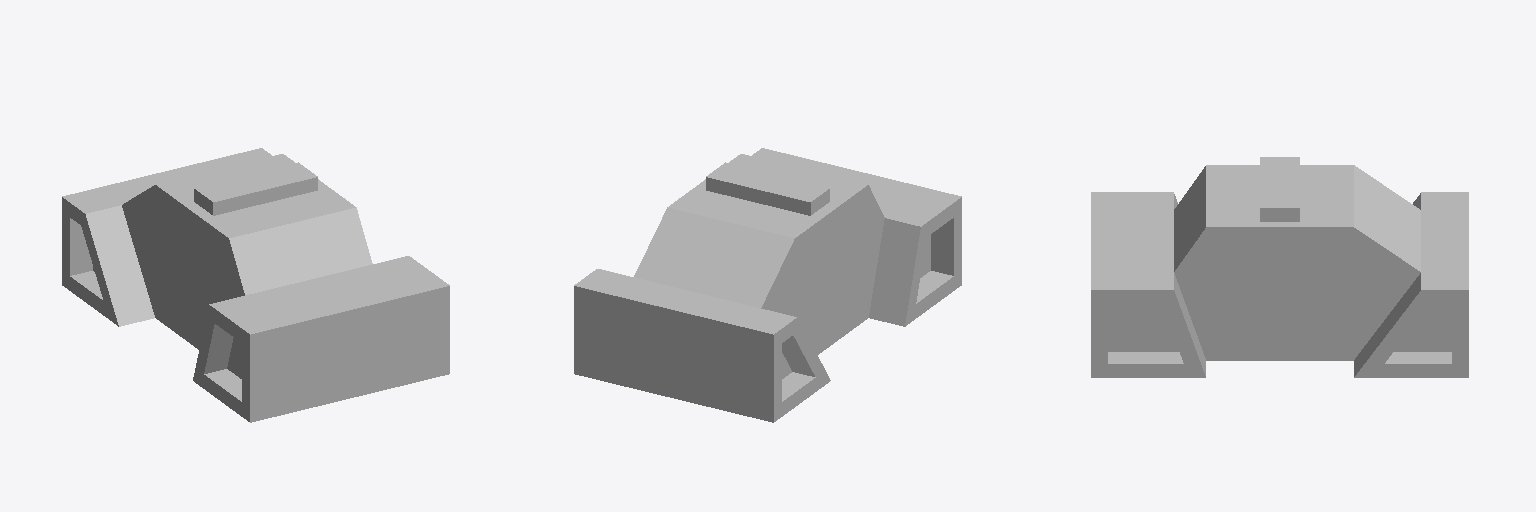
File: Police.obj
3 views of the same model, side by side, from view 1: azimuth 30°, elevation 25°; view 2: azimuth 150°, elevation 25°; view 3: azimuth 270°, elevation 25° (orthographic).
Visible parts, largest first — view 1: Cube3; view 2: Cube3; view 3: Cube3.
Boxes of the visible parts, x1,y1,x2,y2 form: Cube3: [62, 148, 449, 422]; Cube3: [574, 148, 961, 422]; Cube3: [1091, 157, 1468, 377].
Bounding box in the file's own units: 3.14 × 2.2 × 5.12.